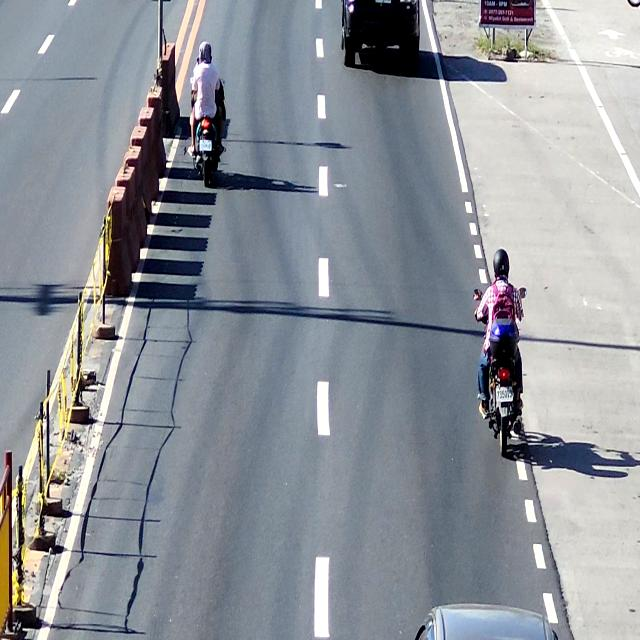Car: (340, 0, 421, 78), (404, 599, 558, 640)
License-Plate: (492, 380, 516, 408), (198, 137, 215, 154)
Motorcycle: (472, 278, 533, 461), (186, 42, 224, 180)
